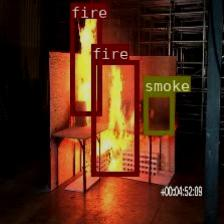fire: (91, 59, 138, 176), (69, 2, 100, 115)
smoke: (143, 92, 174, 134)
